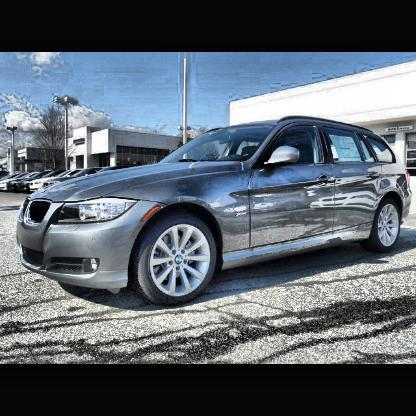BMW 3 Series Wagon 2012: (18, 119, 412, 305)
